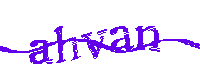a: (108, 25, 134, 54)
h: (53, 25, 79, 65)
n: (136, 24, 161, 53)
p: (29, 39, 53, 66)
v: (81, 28, 107, 61)
